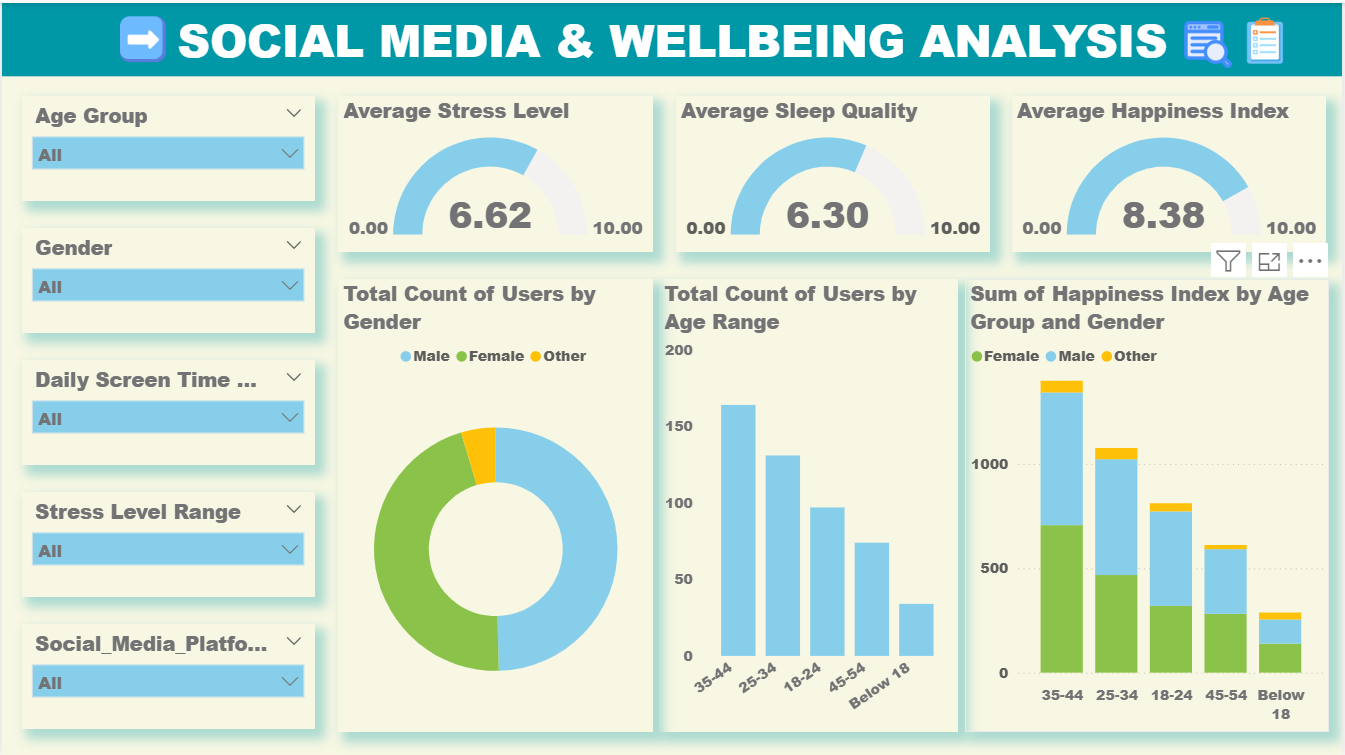

The page's visual inventory and layout, read from the dashboard file:
{"tool":"powerbi","page":{"name":"Overview Page","canvas":[1280,720],"ordinal":0},"visuals":[{"type":"textbox","box":[0,0,1280.4,70],"z":0},{"type":"gauge","fields":{"Y":["Table.Average Happiness Index"]},"box":[963.9,89.1,300.6,149.5],"z":1000},{"type":"gauge","fields":{"Y":["Table.Average Sleep Quality"]},"box":[642.6,89.1,300.6,149.5],"z":2000},{"type":"gauge","fields":{"Y":["Table.Average Stress Level"]},"box":[321.3,89.1,300.6,149.5],"z":3000},{"type":"donutChart","title":"Total Count of Users by Gender","fields":{"Category":["Mental_Health_and_Social_Media_Balance_Dataset.Gender"],"Y":["Mental_Health_and_Social_Media_Balance_Dataset.Total count of users"]},"box":[321.3,264,300.6,432.6],"z":4000},{"type":"slicer","fields":{"Values":["Mental_Health_and_Social_Media_Balance_Dataset.Age Group"]},"box":[19.1,89.1,279.9,100],"z":5000},{"type":"slicer","fields":{"Values":["Mental_Health_and_Social_Media_Balance_Dataset.Gender"]},"box":[19.1,214.7,279.9,100],"z":6000},{"type":"slicer","fields":{"Values":["Mental_Health_and_Social_Media_Balance_Dataset.Daily Screen Time Range"]},"box":[19.1,340.4,279.9,100],"z":7000},{"type":"slicer","fields":{"Values":["Mental_Health_and_Social_Media_Balance_Dataset.Stress Level Range"]},"box":[19.1,467.6,279.9,100],"z":8000},{"type":"slicer","fields":{"Values":["Mental_Health_and_Social_Media_Balance_Dataset.Social_Media_Platform"]},"box":[19.1,593.3,279.9,100],"z":9000},{"type":"clusteredColumnChart","title":"Total Count of Users by Age Range","fields":{"Category":["Mental_Health_and_Social_Media_Balance_Dataset.Age Group"],"Y":["Mental_Health_and_Social_Media_Balance_Dataset.Total count of users"]},"box":[627.4,263.6,285,432.6],"z":10000},{"type":"image","box":[98.8,4.3,71.6,60.2],"z":11000},{"type":"image","box":[1171.7,8.6,68.8,54.4],"z":12000},{"type":"columnChart","title":"Sum of Happiness Index by Age Group and Gender","fields":{"Y":["Sum(Mental_Health_and_Social_Media_Balance_Dataset.Happiness_Index(1-10))"],"Category":["Mental_Health_and_Social_Media_Balance_Dataset.Age Group"],"Series":["Mental_Health_and_Social_Media_Balance_Dataset.Gender"]},"box":[919.6,263.6,348.1,432.6],"z":13000},{"type":"image","box":[1114.4,8.6,74.5,61.6],"z":14000}]}

Visuals, with their boxes in screenshot pixels (x1, y1, x2, y2), scaled from the page's 1280x720 canvas onto the 1345x755 screenshot:
textbox: pyautogui.locateOnScreen(0, 0, 1344, 73)
gauge - Table.Average Happiness Index: pyautogui.locateOnScreen(1013, 93, 1329, 250)
gauge - Table.Average Sleep Quality: pyautogui.locateOnScreen(675, 93, 991, 250)
gauge - Table.Average Stress Level: pyautogui.locateOnScreen(338, 93, 653, 250)
"Total Count of Users by Gender" donutChart: pyautogui.locateOnScreen(338, 277, 653, 730)
slicer - Mental_Health_and_Social_Media_Balance_Dataset.Age Group: pyautogui.locateOnScreen(20, 93, 314, 198)
slicer - Mental_Health_and_Social_Media_Balance_Dataset.Gender: pyautogui.locateOnScreen(20, 225, 314, 330)
slicer - Mental_Health_and_Social_Media_Balance_Dataset.Daily Screen Time Range: pyautogui.locateOnScreen(20, 357, 314, 462)
slicer - Mental_Health_and_Social_Media_Balance_Dataset.Stress Level Range: pyautogui.locateOnScreen(20, 490, 314, 595)
slicer - Mental_Health_and_Social_Media_Balance_Dataset.Social_Media_Platform: pyautogui.locateOnScreen(20, 622, 314, 727)
"Total Count of Users by Age Range" clusteredColumnChart: pyautogui.locateOnScreen(659, 276, 959, 730)
image: pyautogui.locateOnScreen(104, 5, 179, 68)
image: pyautogui.locateOnScreen(1231, 9, 1303, 66)
"Sum of Happiness Index by Age Group and Gender" columnChart: pyautogui.locateOnScreen(966, 276, 1332, 730)
image: pyautogui.locateOnScreen(1171, 9, 1249, 74)
